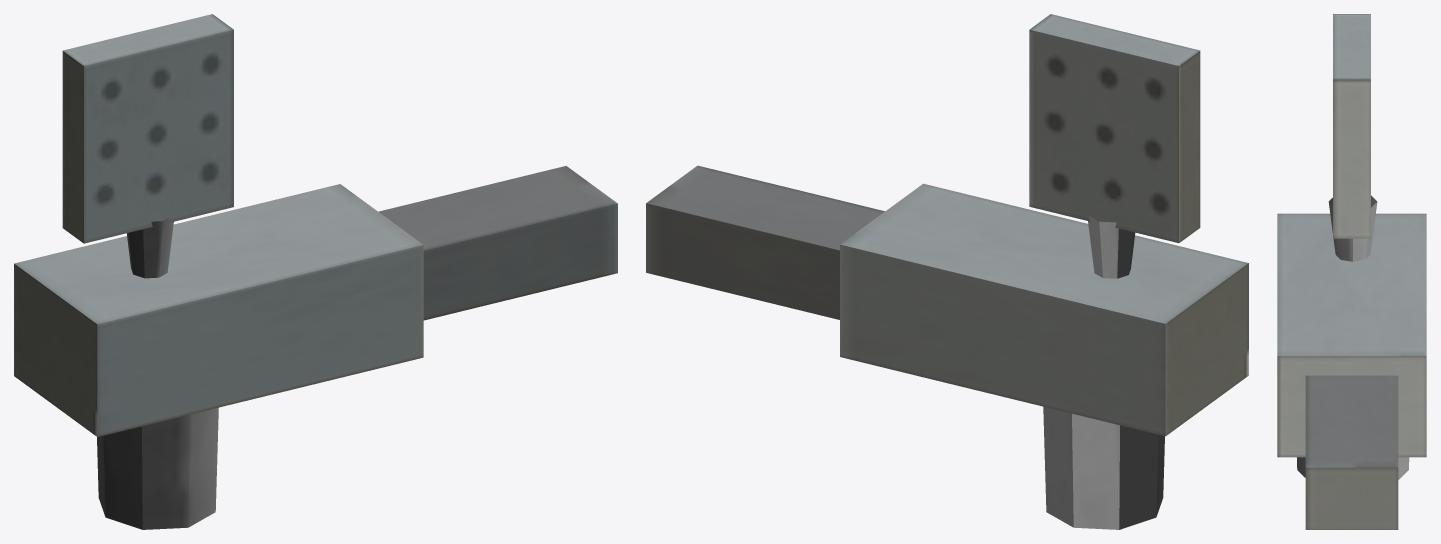
Rendered from substation_ht_1005_06-.obj.
3 renders of one model, left to right at view 1: azimuth 30°, elevation 25°; view 2: azimuth 150°, elevation 25°; view 3: azimuth 270°, elevation 25°, orthographic. The views are drawn at different scales.
Visible parts, largest first — view 1: substation_ht_1005_06_; view 2: substation_ht_1005_06_; view 3: substation_ht_1005_06_.
Boxes of the visible parts, x1,y1,x2,y2 form: substation_ht_1005_06_: (14,14,617,529); substation_ht_1005_06_: (646,14,1248,529); substation_ht_1005_06_: (1277,14,1426,529).
Size of the model in its own units: 5.9 by 4.92 by 1.59.
2 materials, 2 textured.
